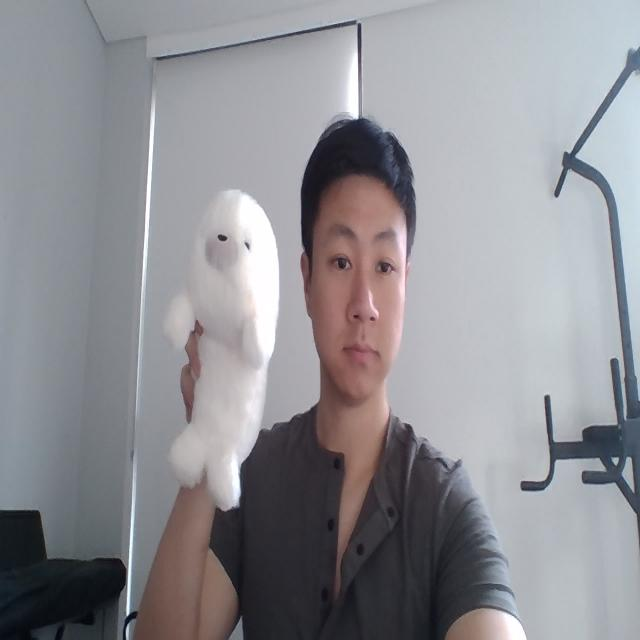seal_bb: (164, 188, 280, 513)
